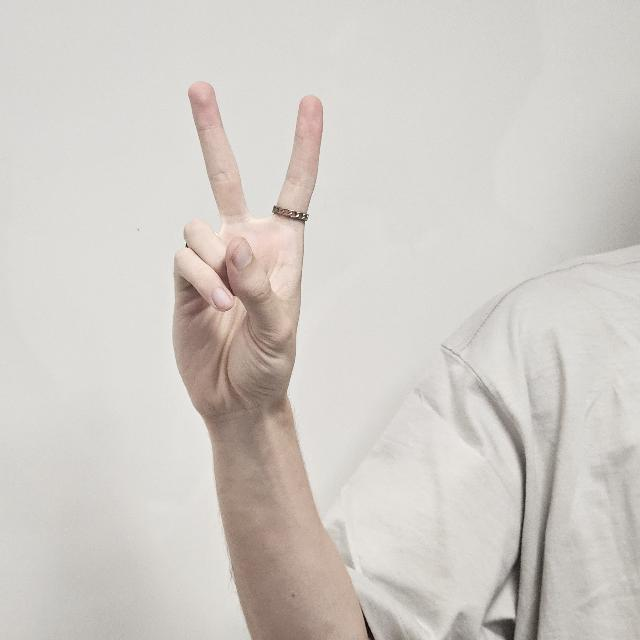Triangulo: (169, 78, 329, 416)
